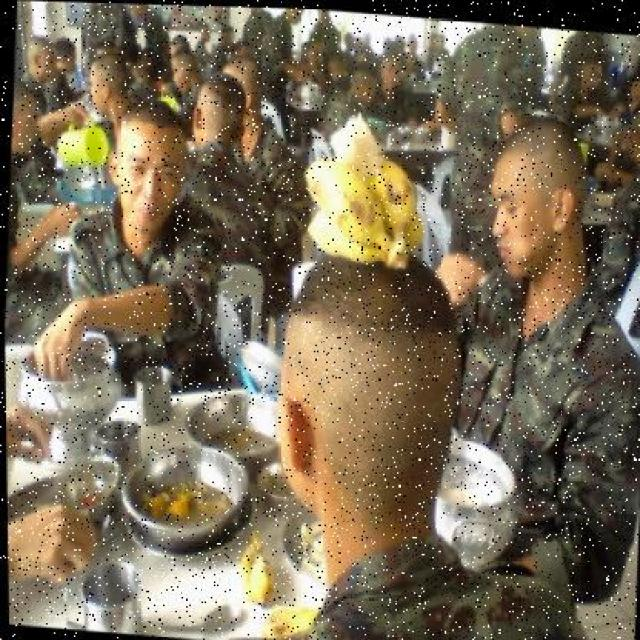MIL_Pax: (241, 227, 503, 640), (457, 129, 634, 562), (94, 2, 423, 110), (421, 16, 542, 267), (91, 125, 207, 348), (171, 85, 271, 283), (1, 83, 41, 334), (603, 98, 640, 340), (11, 29, 67, 133)
